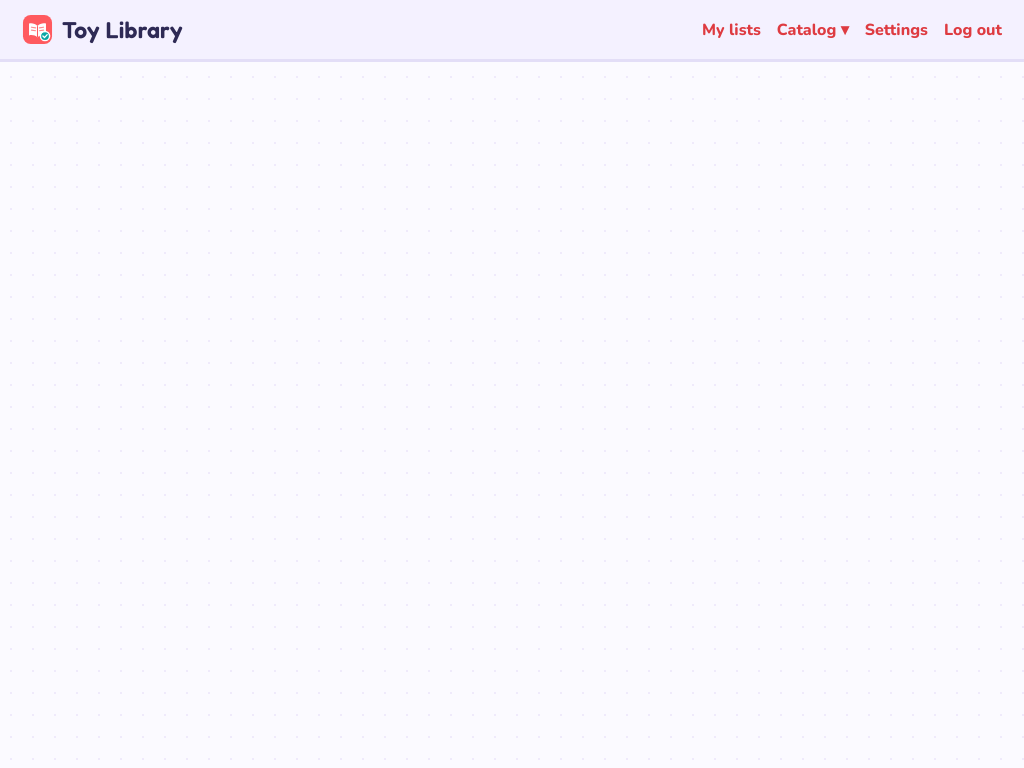
Test: Header catalog dropdown › signed-in nav gets the same dropdown
The width and height of the screenshot is (1024, 768).
Check: the link "My lists" is shown, box x1=702 y1=18 x2=761 y2=40
Click the button "Catalog ▾".
click(813, 30)  # box x1=777 y1=18 x2=849 y2=40
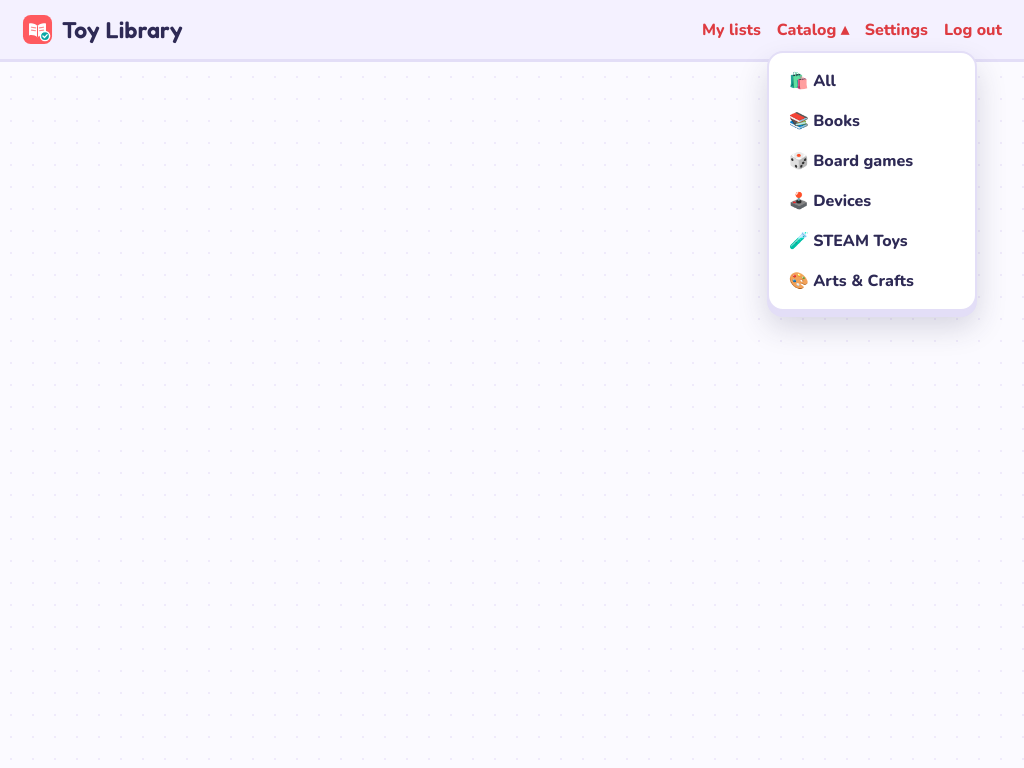
Check: the menu item "🎲 Board games" is shown, box x1=789 y1=150 x2=913 y2=172
